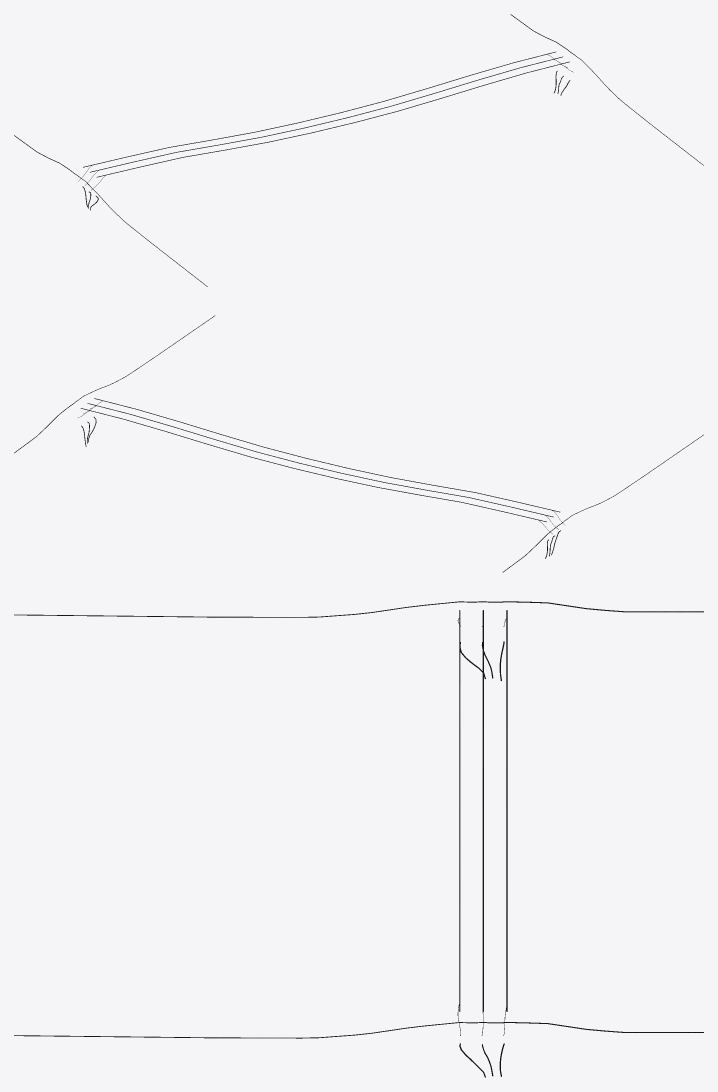
Rendered from Wire.fbx.
The picture shows the model from 3 angles, top to bottom: view 1: azimuth 30°, elevation 25°; view 2: azimuth 150°, elevation 25°; view 3: azimuth 270°, elevation 25°; orthographic projection. The views are drawn at different scales.
Parts seen in each view (by area): view 1: Wire; view 2: Wire; view 3: Wire.
Boxes of the visible parts, x1,y1,x2,y2 form: Wire: (14,14,703,286); Wire: (14,315,703,572); Wire: (14,601,703,1077).
Bounding box in the file's own units: 2884 × 218 × 1974.
1 material, 1 textured.
